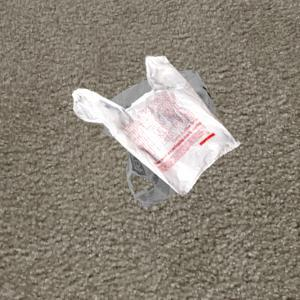plastic_bag: (69, 55, 241, 202)
